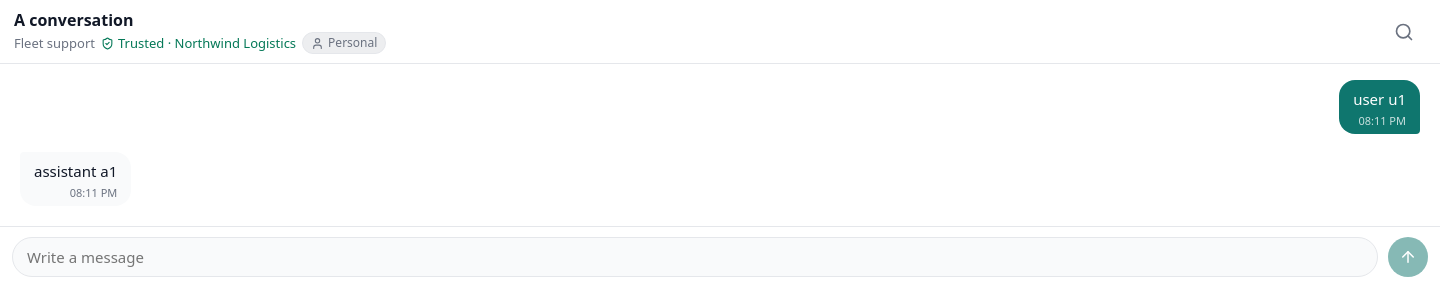
Test case: Delete in the menu of a message (UI-CONV-017, UI-CONV-036) › is offered last, after a rule, in red, on a message the person sent a minute ago
Right-click the element showing "user u1 08:11 PM" at (1380, 107), box [1339, 80, 1420, 134]
(page scrolled)
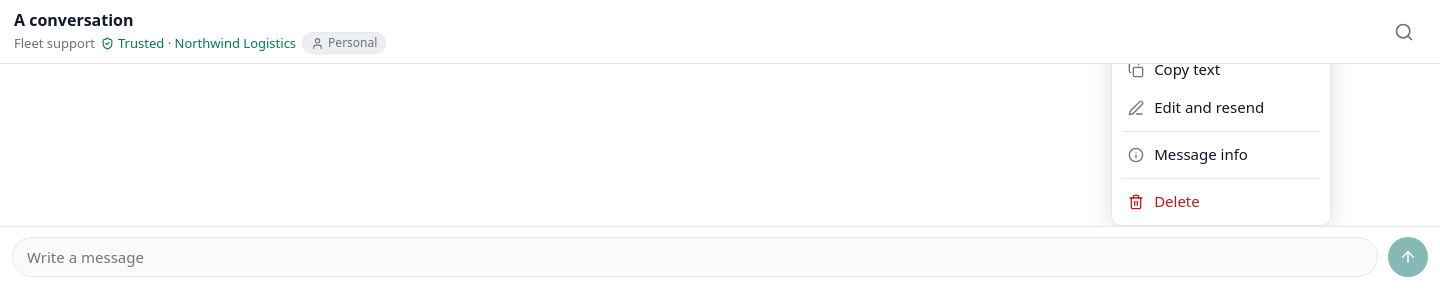
Result: the menu item "Delete" is shown at [1116, 183, 1326, 221]
